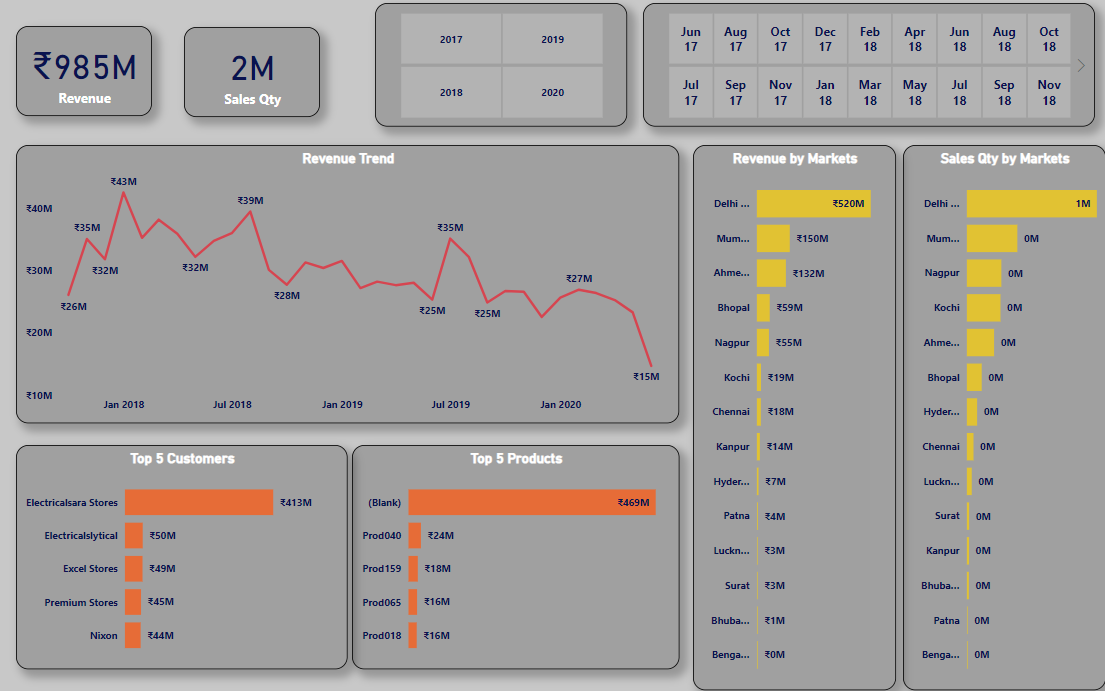

What the dashboard file says about the page in this screenshot:
{"tool":"powerbi","page":{"name":"Key Insights","canvas":[1350,850],"ordinal":0},"visuals":[{"type":"card","fields":{"Values":["BaseMeasures (2).Revenue"]},"box":[20.1,31.8,165.6,110.4],"z":0},{"type":"card","fields":{"Values":["BaseMeasures (2).Sales Qty"]},"box":[224.2,33.5,165.6,110.4],"z":1000},{"type":"barChart","title":"Revenue by Markets","fields":{"Y":["BaseMeasures (2).Revenue"],"Category":["sales markets.markets_name"]},"box":[846.7,177.4,247.6,665.9],"z":2000},{"type":"barChart","title":"Sales Qty by Markets","fields":{"Y":["BaseMeasures (2).Sales Qty"],"Category":["sales markets.markets_name"]},"box":[1102.7,177.4,247.6,665.9],"z":3000},{"type":"slicer","fields":{"Values":["sales date.year"]},"box":[458.5,3.3,307.9,150.6],"z":4000},{"type":"slicer","fields":{"Values":["sales date.cy_date"]},"box":[784.7,3.3,552.2,150.6],"z":5000},{"type":"barChart","title":"Top 5 Customers","fields":{"Y":["BaseMeasures (2).Revenue"],"Category":["sales customers.custmer_name"]},"box":[20.1,543.8,404.9,274.4],"z":6000},{"type":"barChart","title":"Top 5 Products","fields":{"Y":["BaseMeasures (2).Revenue"],"Category":["sales products.product_code"]},"box":[430,543.8,399.9,274.4],"z":7000},{"type":"lineChart","title":"Revenue Trend","fields":{"Y":["BaseMeasures (2).Revenue"],"Category":["sales date.cy_date"]},"box":[20.1,177.4,809.8,339.7],"z":8000}]}

Visuals, with their boxes in screenshot pixels (x1, y1, x2, y2), scaled from the page's 1350x850 canvas onto the 1105x691 screenshot:
card - BaseMeasures (2).Revenue: [x1=16, y1=26, x2=152, y2=116]
card - BaseMeasures (2).Sales Qty: [x1=184, y1=27, x2=319, y2=117]
"Revenue by Markets" barChart: [x1=693, y1=144, x2=896, y2=686]
"Sales Qty by Markets" barChart: [x1=903, y1=144, x2=1104, y2=686]
slicer - sales date.year: [x1=375, y1=3, x2=627, y2=125]
slicer - sales date.cy_date: [x1=642, y1=3, x2=1094, y2=125]
"Top 5 Customers" barChart: [x1=16, y1=442, x2=348, y2=665]
"Top 5 Products" barChart: [x1=352, y1=442, x2=679, y2=665]
"Revenue Trend" lineChart: [x1=16, y1=144, x2=679, y2=420]
